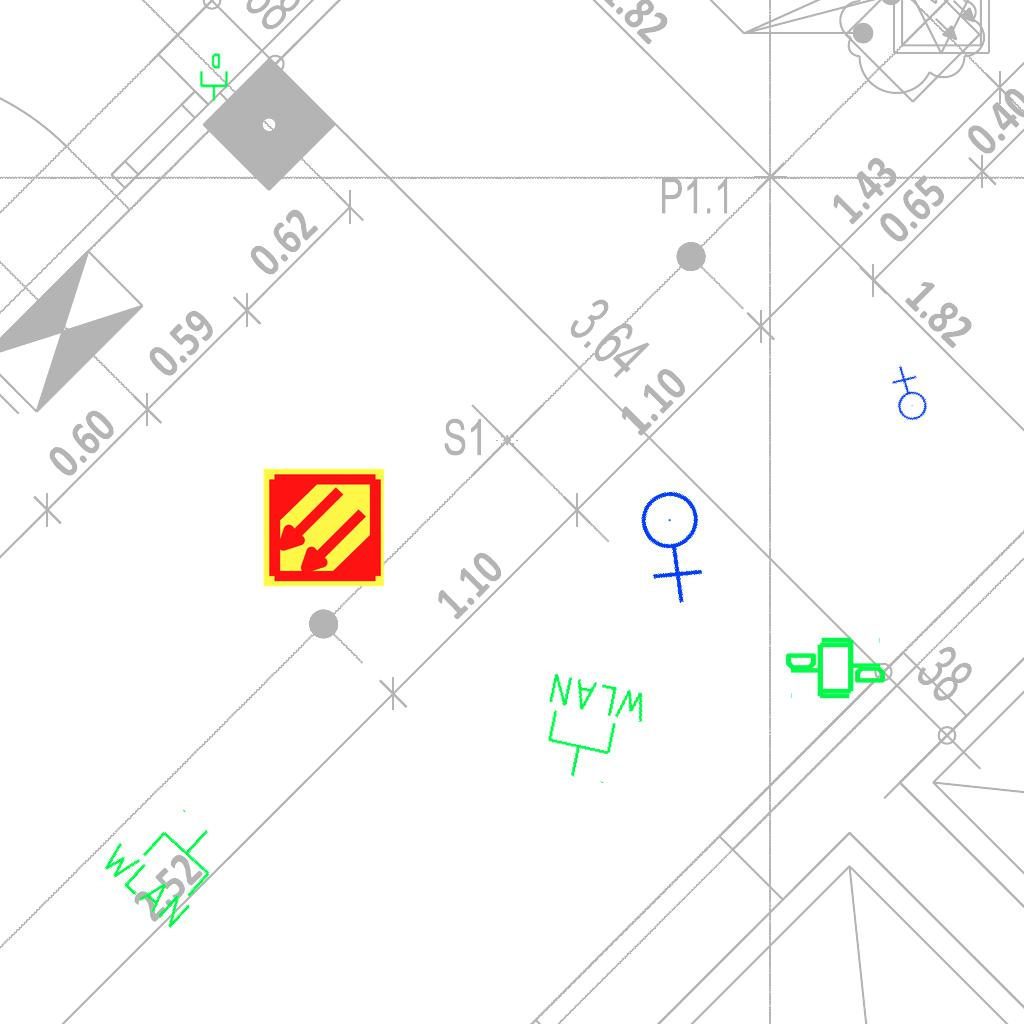ASR_Ansaugrauchmelder: (261, 465, 386, 590)
Datenanschluss_einfach: (783, 633, 883, 702), (788, 634, 888, 703), (196, 52, 230, 102)
Elektroanschluss_allgemein_230V_Geraeteanschlussdose_230V: (609, 472, 744, 608), (875, 364, 940, 429)
WLAN: (93, 786, 241, 935), (529, 668, 655, 793)
